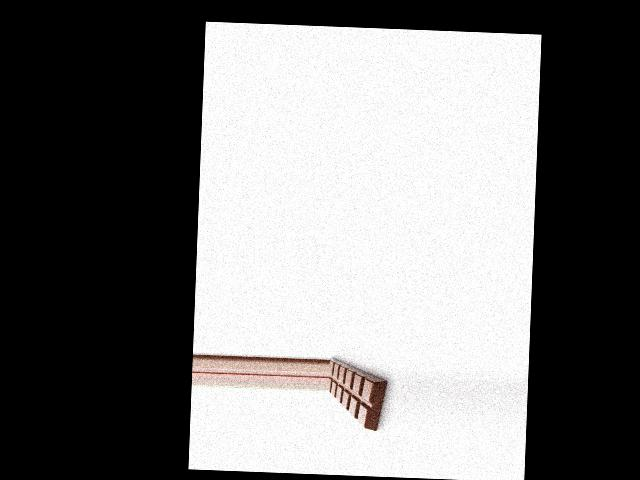chocolate: (327, 353, 390, 431)
